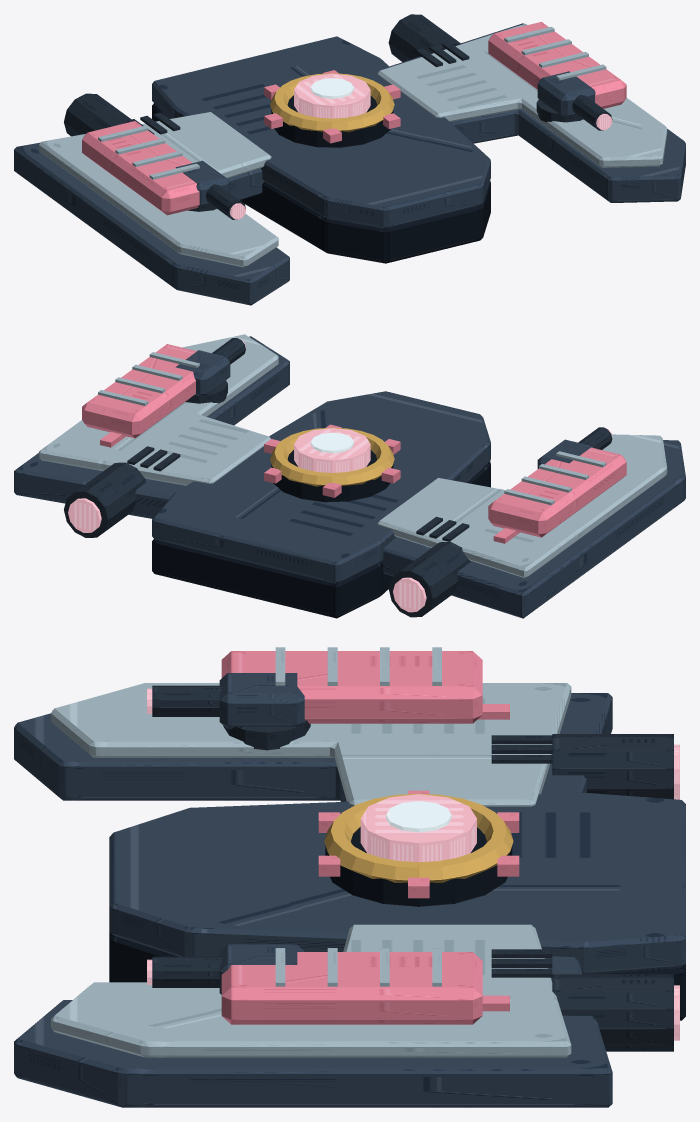
Rendered from boss-05-carrier.glb.
3 views of the same model, one above another, from view 1: azimuth 30°, elevation 25°; view 2: azimuth 150°, elevation 25°; view 3: azimuth 270°, elevation 25° (orthographic). The views are drawn at different scales.
Parts seen in each view (by area): view 1: Boss_Ship_Geometry, Core_Geometry, Turret_R_Geometry, Turret_L_Geometry; view 2: Boss_Ship_Geometry, Core_Geometry, Turret_R_Geometry, Turret_L_Geometry; view 3: Boss_Ship_Geometry, Core_Geometry, Turret_L_Geometry, Turret_R_Geometry.
Boxes of the visible parts, left/top/right/bottom form: Boss_Ship_Geometry: left=14, top=14, right=685, bottom=305; Core_Geometry: left=264, top=70, right=400, bottom=147; Turret_R_Geometry: left=536, top=71, right=612, bottom=130; Turret_L_Geometry: left=175, top=160, right=245, bottom=219; Boss_Ship_Geometry: left=14, top=334, right=685, bottom=618; Core_Geometry: left=264, top=424, right=400, bottom=502; Turret_R_Geometry: left=176, top=337, right=245, bottom=403; Turret_L_Geometry: left=537, top=427, right=612, bottom=468; Boss_Ship_Geometry: left=14, top=647, right=685, bottom=1107; Core_Geometry: left=318, top=790, right=519, bottom=906; Turret_L_Geometry: left=147, top=673, right=310, bottom=750; Turret_R_Geometry: left=147, top=944, right=304, bottom=994.
Size of the model in its own units: 7.4 by 1.26 by 5.55.
8 materials, 8 textured.
